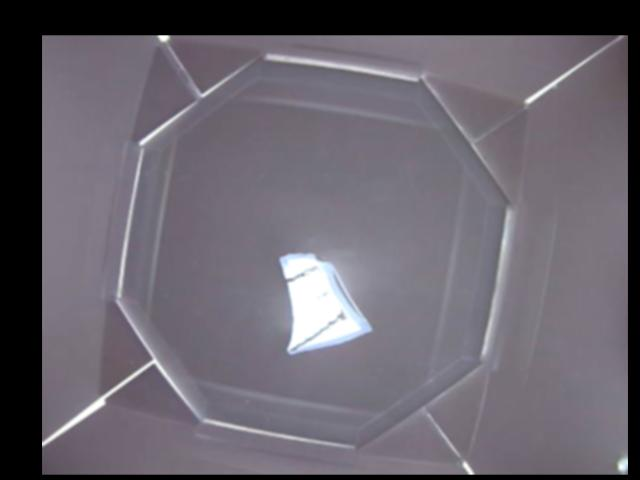China: (280, 251, 373, 352)
